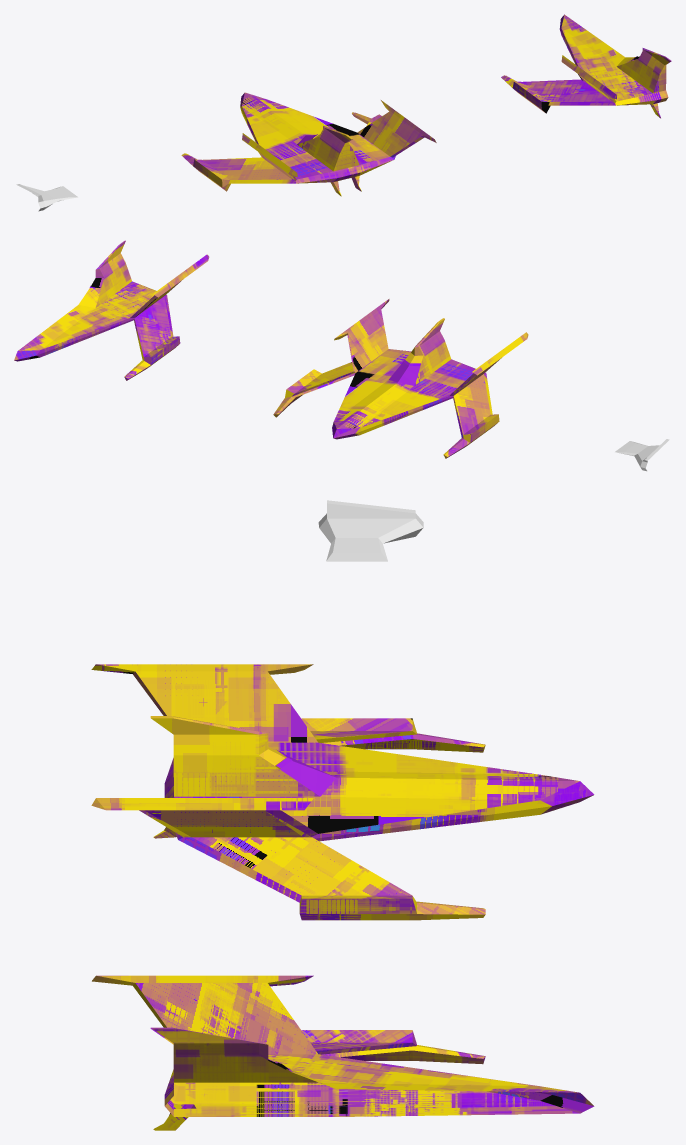
The model's file is spaceship_001_Textured.glb.
3 renders of one model, top to bottom at view 1: azimuth 30°, elevation 25°; view 2: azimuth 150°, elevation 25°; view 3: azimuth 270°, elevation 25°, orthographic. The views are drawn at different scales.
Parts seen in each view (by area): view 1: Cube, Cube.001, Plane; view 2: Cube, Cube.001, Plane; view 3: Cube, Cube.001, Plane.
Boxes of the visible parts, <box> form: Cube: <box>181,92,436,196</box>; Cube.001: <box>501,14,671,118</box>; Plane: <box>16,184,77,211</box>; Cube: <box>273,299,528,458</box>; Cube.001: <box>14,240,209,380</box>; Plane: <box>615,439,669,471</box>; Cube: <box>91,664,594,920</box>; Cube.001: <box>92,975,594,1130</box>; Plane: <box>318,500,423,561</box>.
Size of the model in its own units: 45.04 by 4.32 by 16.66.
1 material, 1 textured.
